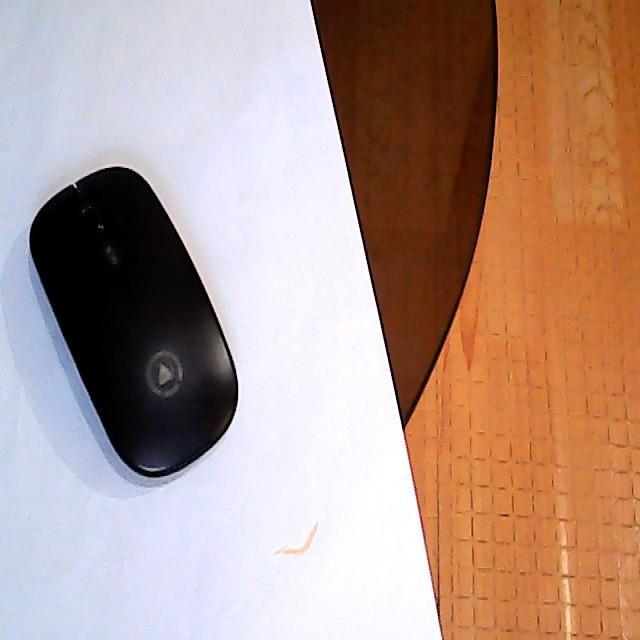mouse: (29, 163, 242, 482)
